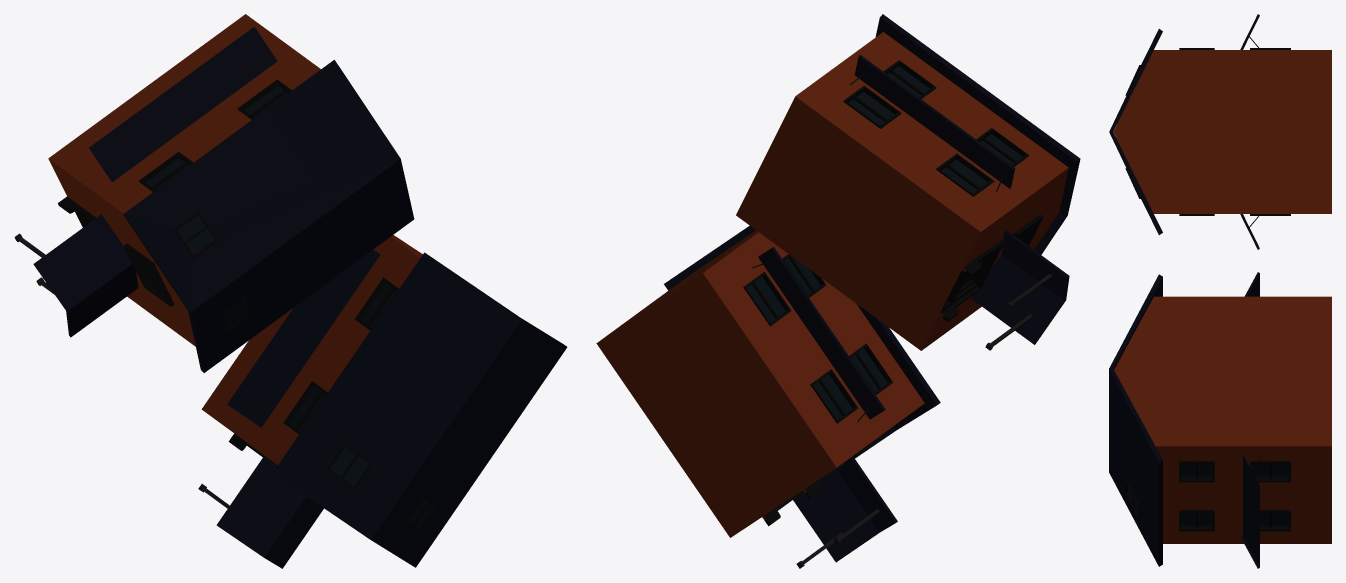
The model's file is house.obj.
3 views of the same model, side by side, from view 1: azimuth 30°, elevation 25°; view 2: azimuth 150°, elevation 25°; view 3: azimuth 270°, elevation 25° (orthographic). The views are drawn at different scales.
Visible parts, largest first — view 1: Cylinder.037; view 2: Cylinder.037; view 3: Cylinder.037.
Boxes of the visible parts, bbox=[...] form: Cylinder.037: bbox=[14, 14, 567, 568]; Cylinder.037: bbox=[596, 14, 1080, 568]; Cylinder.037: bbox=[1109, 14, 1331, 568].
Size of the model in its own units: 0.5051 by 0.548 by 0.2128.
